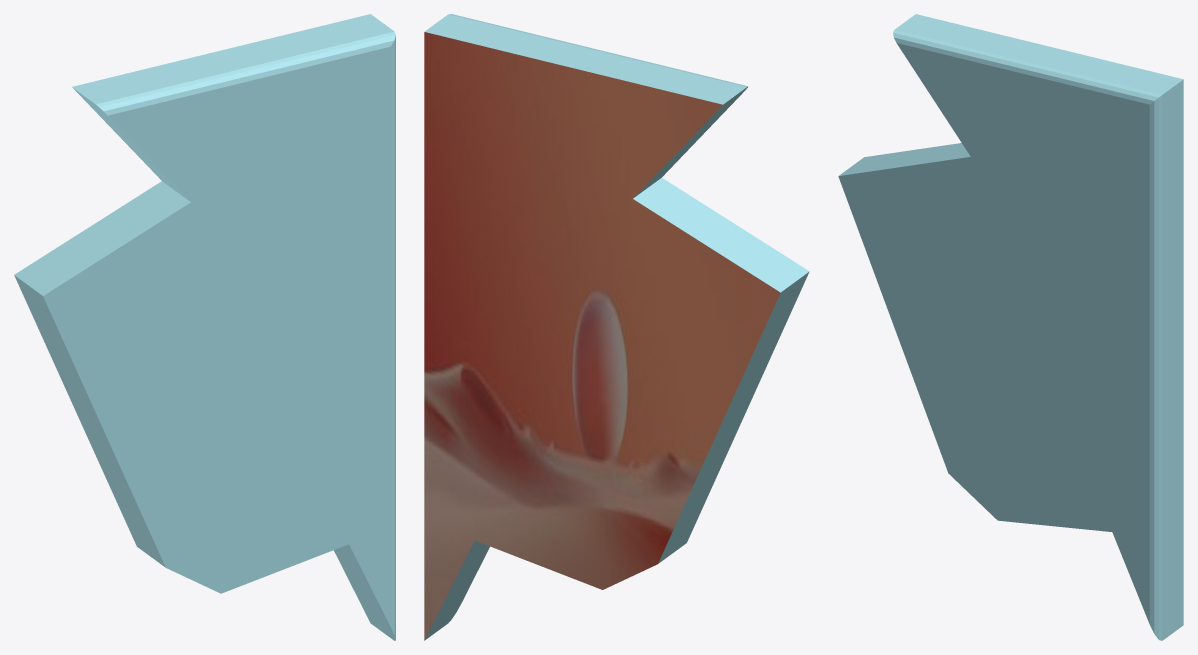
The model's file is monde1.glb.
3 renders of one model, left to right at view 1: azimuth 30°, elevation 25°; view 2: azimuth 150°, elevation 25°; view 3: azimuth 330°, elevation 25°, orthographic. The views are drawn at different scales.
Visible parts, largest first — view 1: Plane.001; view 2: Plane.001; view 3: Plane.001.
Boxes of the visible parts, bbox=[...] form: Plane.001: bbox=[14, 14, 395, 640]; Plane.001: bbox=[424, 14, 809, 640]; Plane.001: bbox=[838, 14, 1183, 640].
Size of the model in its own units: 35.44 by 57.89 by 5.
Materials: 2 (1 with a texture image).
